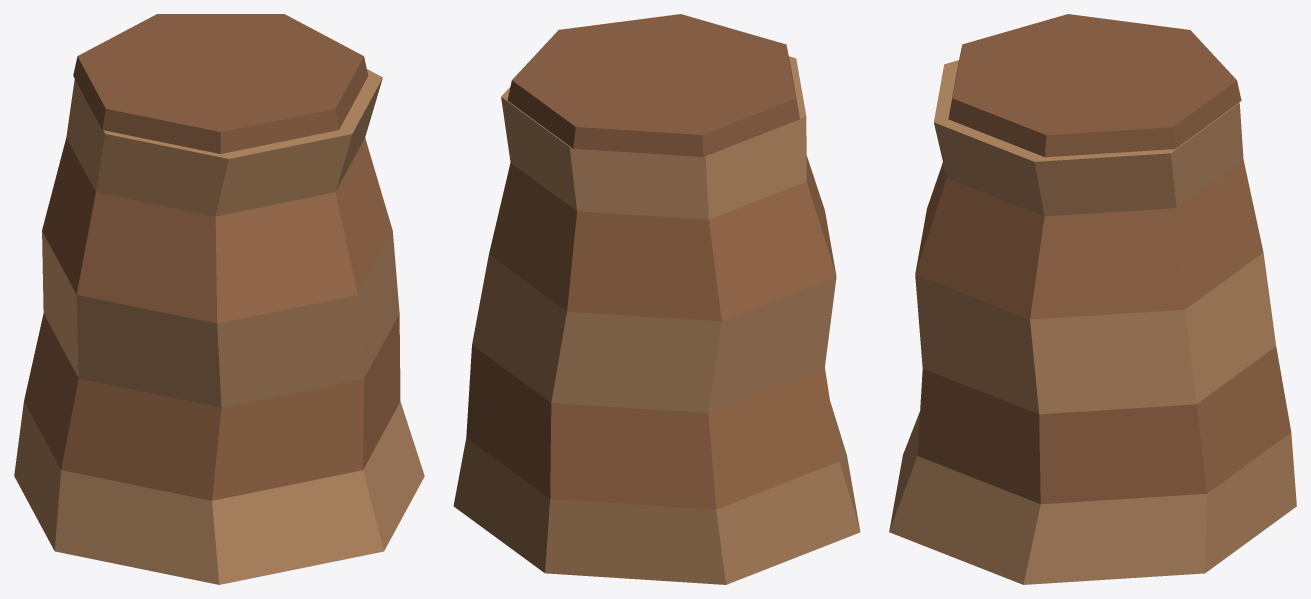
File: mesa.glb
The picture shows the model from 3 angles, left to right: view 1: azimuth 30°, elevation 25°; view 2: azimuth 150°, elevation 25°; view 3: azimuth 270°, elevation 25°; orthographic projection.
Parts seen in each view (by area): view 1: mesa; view 2: mesa; view 3: mesa.
Boxes of the visible parts, box(x1,y1,x2,y2) form: mesa: box(14, 14, 424, 584); mesa: box(453, 14, 860, 584); mesa: box(889, 14, 1296, 584).
Bounding box in the file's own units: 0.9195 × 1.05 × 0.9119.
